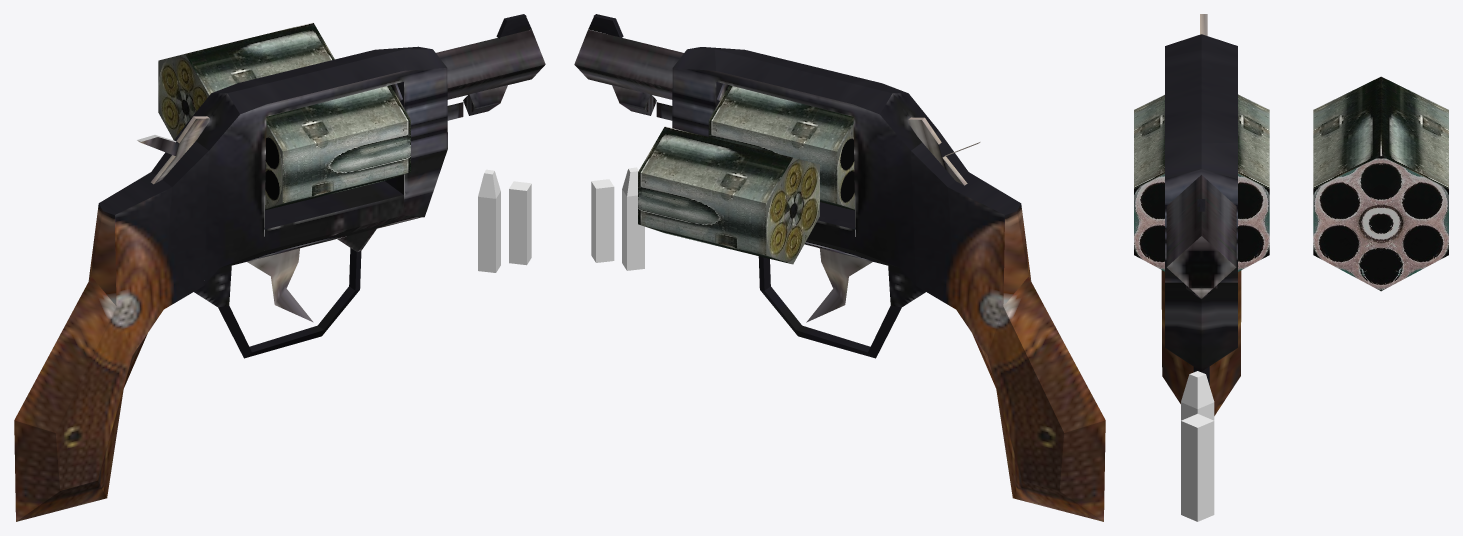
The picture shows the model from 3 angles, left to right: view 1: azimuth 30°, elevation 25°; view 2: azimuth 150°, elevation 25°; view 3: azimuth 270°, elevation 25°; orthographic projection. The views are drawn at different scales.
Parts seen in each view (by area): view 1: SnubNoseBody, SnubNoseCylinder, SnubNoseCylinderFull, SnubNoseTrigger&Hammer, 38SpecialBullet, 38SpecialShell; view 2: SnubNoseBody, SnubNoseCylinderFull, SnubNoseCylinder, SnubNoseTrigger&Hammer, 38SpecialShell, 38SpecialBullet; view 3: SnubNoseBody, SnubNoseCylinderFull, SnubNoseCylinder, 38SpecialShell, 38SpecialBullet.
Part boxes in pixels (bbox=[...]): SnubNoseBody: bbox=[14, 14, 545, 521]; SnubNoseCylinder: bbox=[265, 85, 410, 210]; SnubNoseCylinderFull: bbox=[158, 22, 334, 139]; SnubNoseTrigger&Hammer: bbox=[137, 116, 313, 322]; 38SpecialBullet: bbox=[478, 169, 500, 272]; 38SpecialShell: bbox=[509, 181, 531, 265]; SnubNoseBody: bbox=[574, 14, 1105, 521]; SnubNoseCylinderFull: bbox=[638, 126, 819, 264]; SnubNoseCylinder: bbox=[708, 85, 854, 210]; SnubNoseTrigger&Hammer: bbox=[806, 117, 980, 322]; 38SpecialShell: bbox=[591, 179, 614, 262]; 38SpecialBullet: bbox=[622, 167, 644, 270]; SnubNoseBody: bbox=[1161, 34, 1241, 415]; SnubNoseCylinderFull: bbox=[1313, 76, 1448, 291]; SnubNoseCylinder: bbox=[1134, 94, 1269, 271]; 38SpecialShell: bbox=[1181, 413, 1214, 521]; 38SpecialBullet: bbox=[1181, 371, 1214, 420].
Size of the model in its own units: 1.92 by 1.36 by 0.7978.
Materials: 4 (3 with a texture image).
